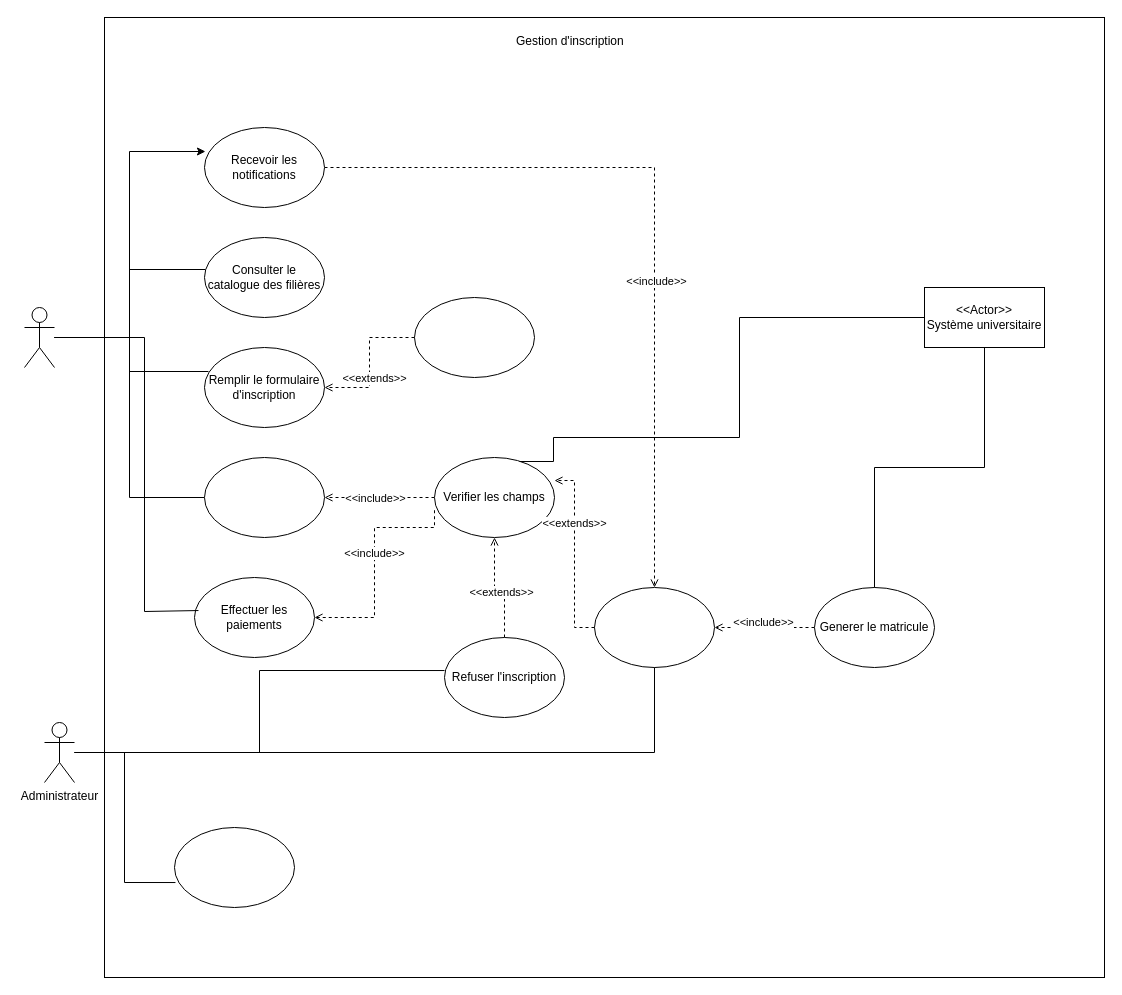
This 1122x995 diagram has some shape labels left out. The shapes that lost their labels are listed below. From the top down, each one's centre as x and y in pixels, then its label:
point (39, 337): Etudiant
point (474, 337): Televerser les documents
point (264, 497): Envoyer le formulaire
point (654, 627): Valider l'inscription
point (234, 867): Consulter les demandes d'inscription
